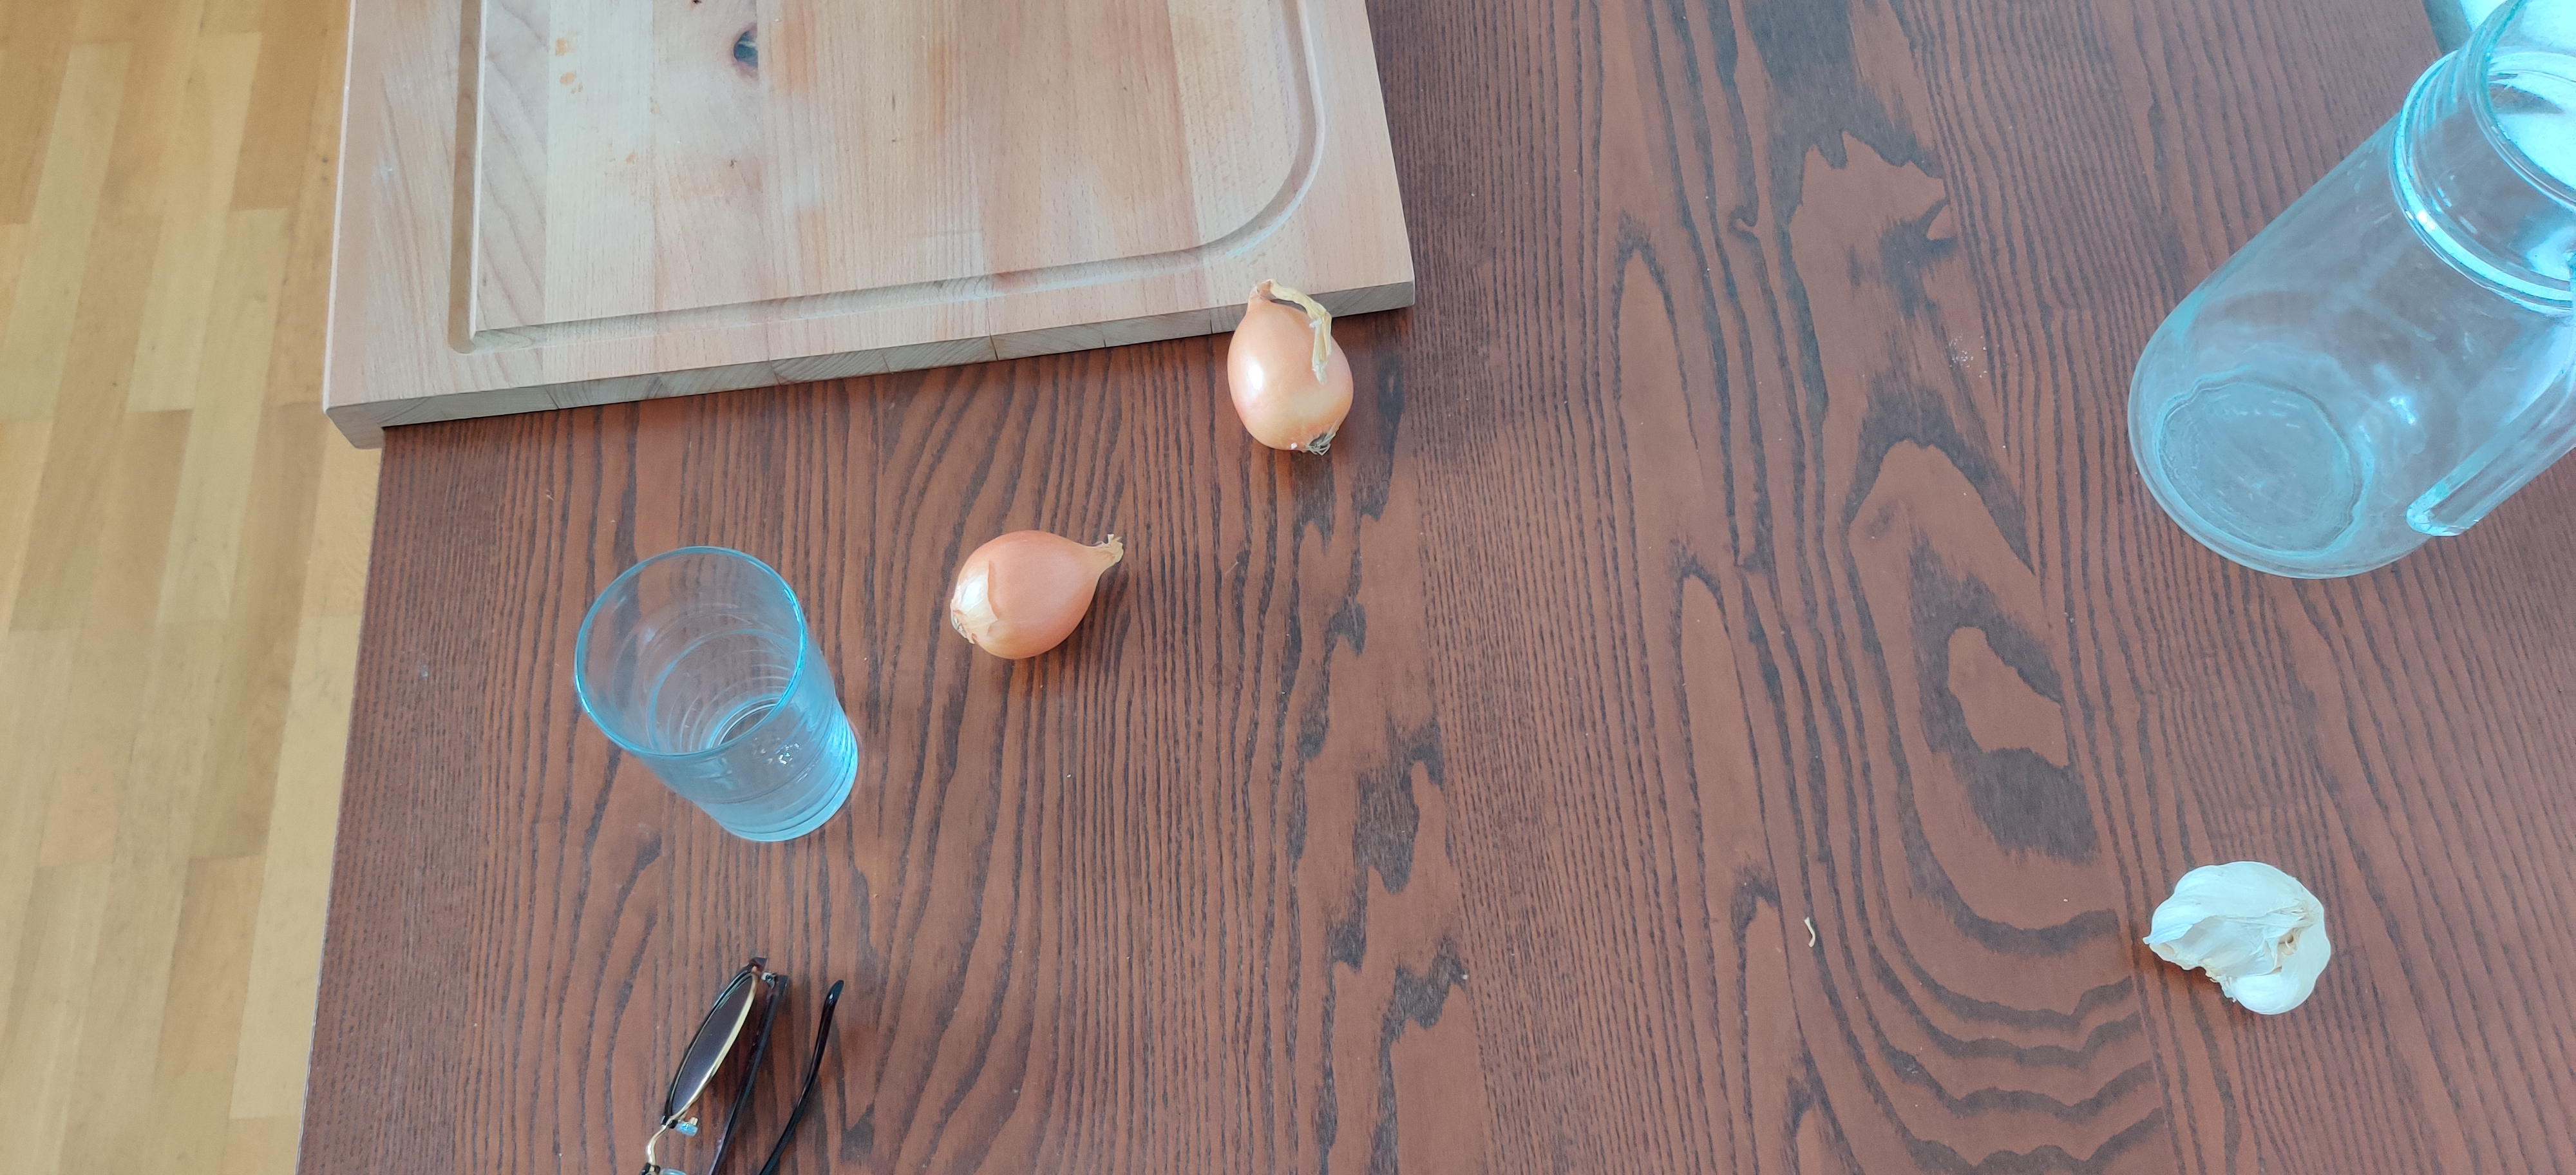Zwiebel: (948, 528, 1124, 661), (1227, 281, 1354, 454)
